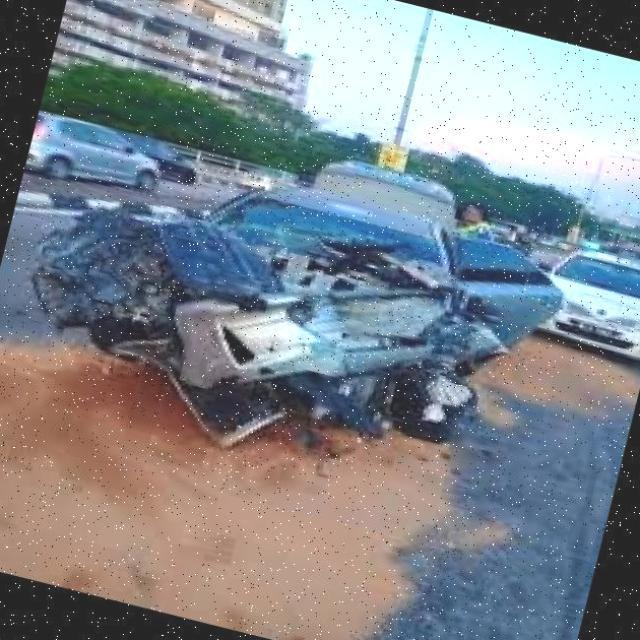accident: (2, 108, 569, 512)
